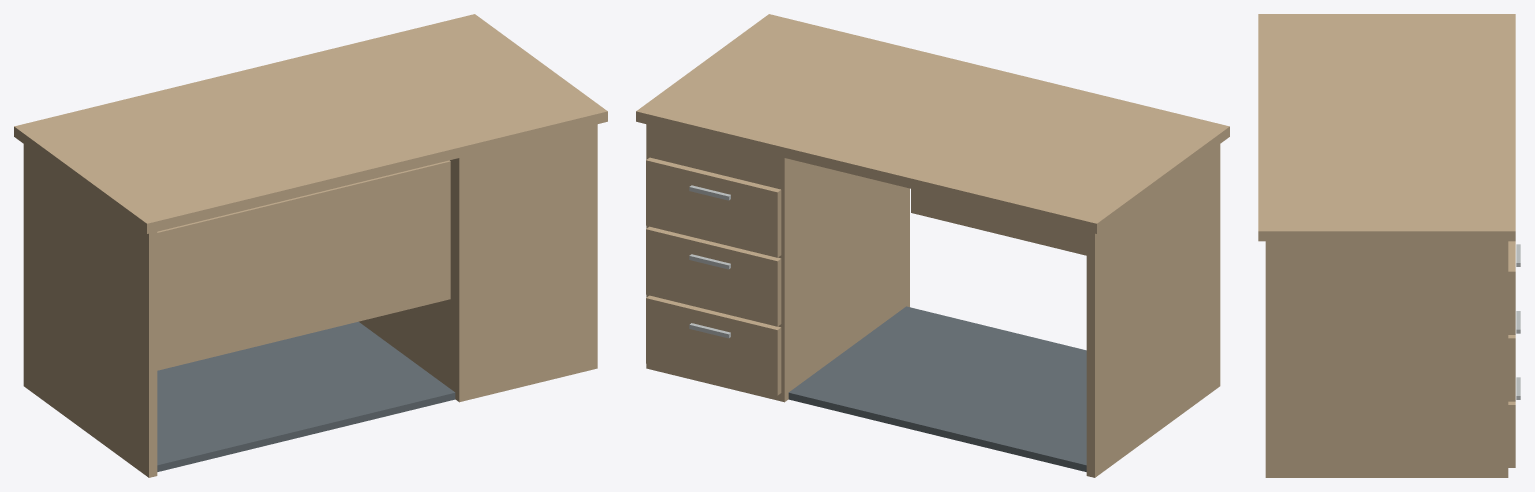
Rendered from dispensing_desk.fbx.
3 renders of one model, left to right at view 1: azimuth 30°, elevation 25°; view 2: azimuth 150°, elevation 25°; view 3: azimuth 270°, elevation 25°, orthographic. The views are drawn at different scales.
Visible parts, largest first — view 1: dispensing_desk; view 2: dispensing_desk; view 3: dispensing_desk.
Part boxes in pixels (box(x1,y1,x2,y2)): dispensing_desk: box(14, 14, 607, 477); dispensing_desk: box(636, 14, 1229, 477); dispensing_desk: box(1258, 14, 1520, 477).
Bounding box in the file's own units: 140 × 75 × 71.4.
